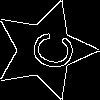C: (19, 25, 77, 74)
